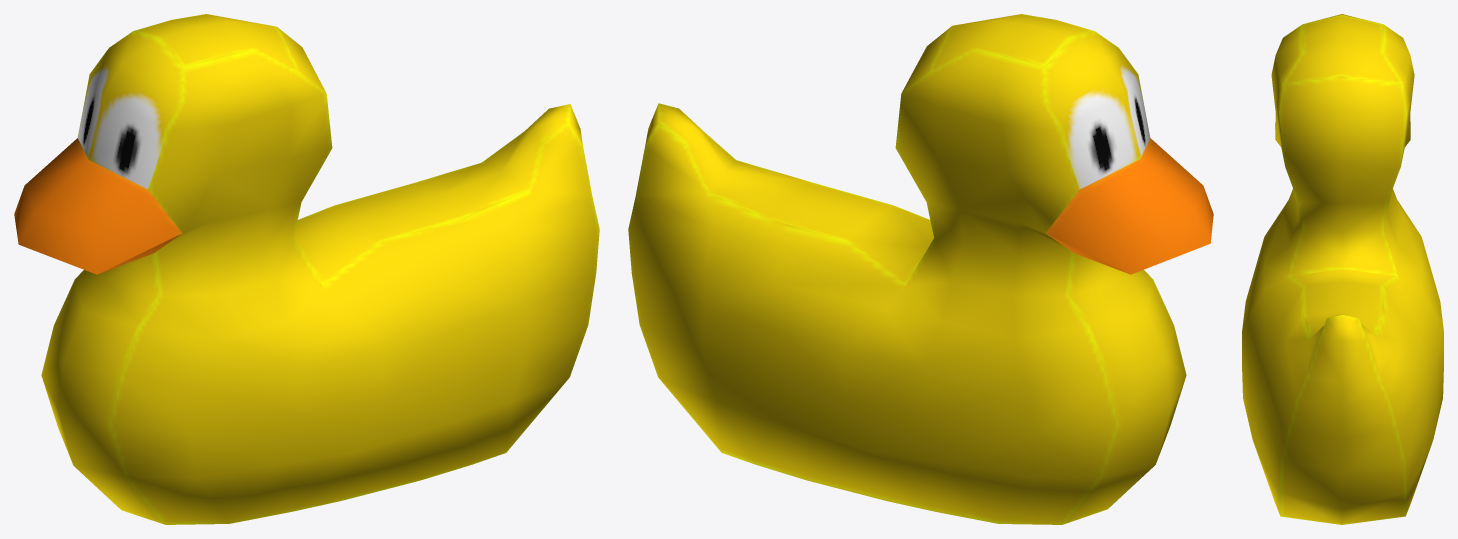
Rendered from Paperella.FBX.
3 renders of one model, left to right at view 1: azimuth 30°, elevation 25°; view 2: azimuth 150°, elevation 25°; view 3: azimuth 270°, elevation 25°, orthographic. The views are drawn at different scales.
Parts seen in each view (by area): view 1: Plane002; view 2: Plane002; view 3: Plane002.
Boxes of the visible parts, left/top/right/bottom form: Plane002: left=14, top=14, right=599, bottom=524; Plane002: left=628, top=14, right=1213, bottom=524; Plane002: left=1242, top=14, right=1443, bottom=524.
Size of the model in its own units: 123 by 96.71 by 46.59.
